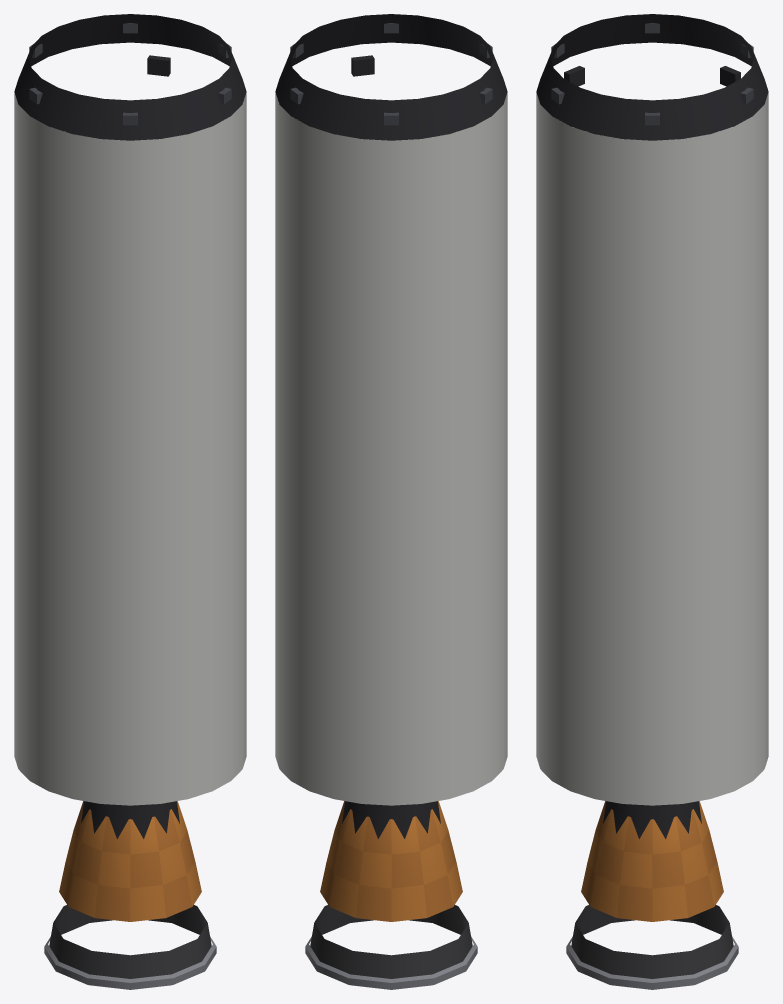
3 renders of one model, left to right at view 1: azimuth 30°, elevation 25°; view 2: azimuth 150°, elevation 25°; view 3: azimuth 270°, elevation 25°, orthographic.
Visible parts, largest first — view 1: upper.hull, upper.dark, upper.bell, upper.metal; view 2: upper.hull, upper.dark, upper.bell, upper.metal; view 3: upper.hull, upper.dark, upper.bell, upper.metal.
Boxes of the visible parts, <box> form: upper.hull: <box>14,92,246,805</box>; upper.dark: <box>14,14,246,838</box>; upper.bell: <box>49,801,211,978</box>; upper.metal: <box>44,936,216,989</box>; upper.hull: <box>275,92,507,805</box>; upper.dark: <box>275,14,507,838</box>; upper.bell: <box>310,801,472,978</box>; upper.metal: <box>305,936,477,989</box>; upper.hull: <box>536,92,768,805</box>; upper.dark: <box>536,14,768,838</box>; upper.bell: <box>571,801,733,978</box>; upper.metal: <box>566,936,738,989</box>.
Size of the model in its own units: 3.66 by 15.61 by 3.66.
